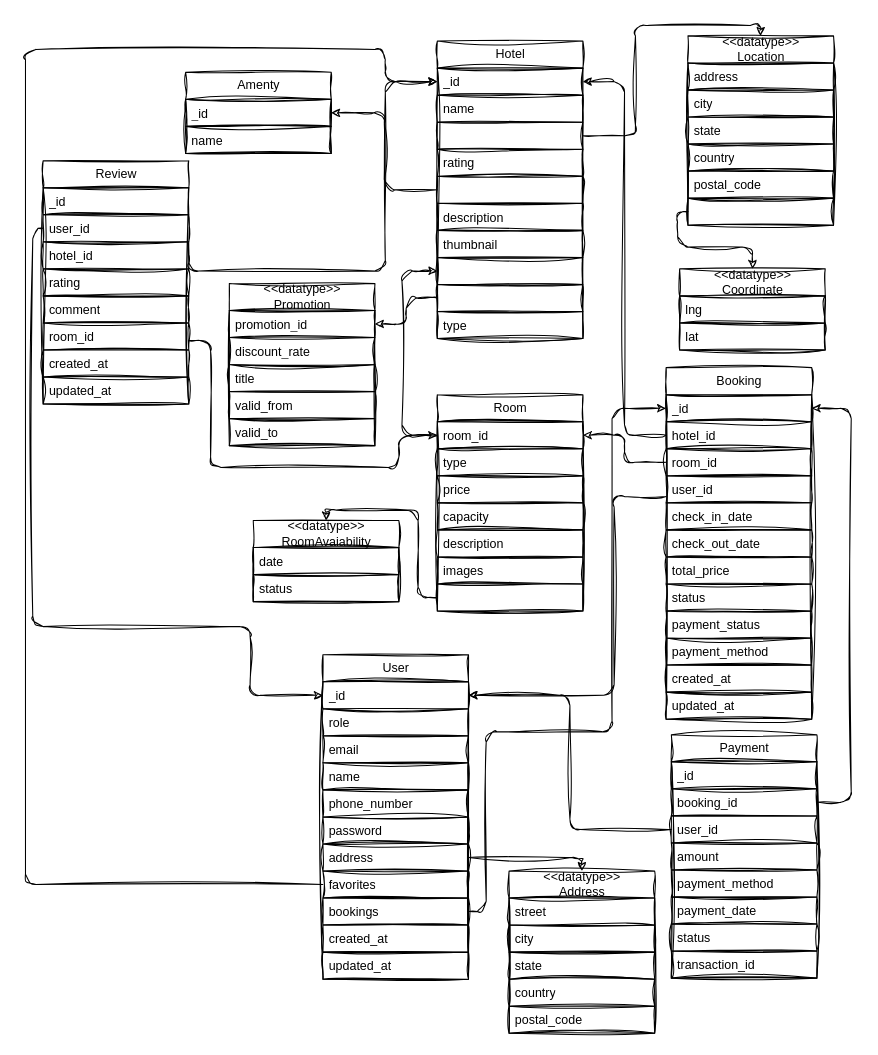
Image size: 878x1055. Some labels were removed from this diagram. The centre of each missing label's shape, as x and y in pixels:
"amenties" belongs at (x=509, y=189).
"avaiability" belongs at (x=509, y=597).
"coordinates" belongs at (x=760, y=211).
"location" belongs at (x=509, y=135).
"promotions" belongs at (x=509, y=297).
"rooms" belongs at (x=509, y=270).
